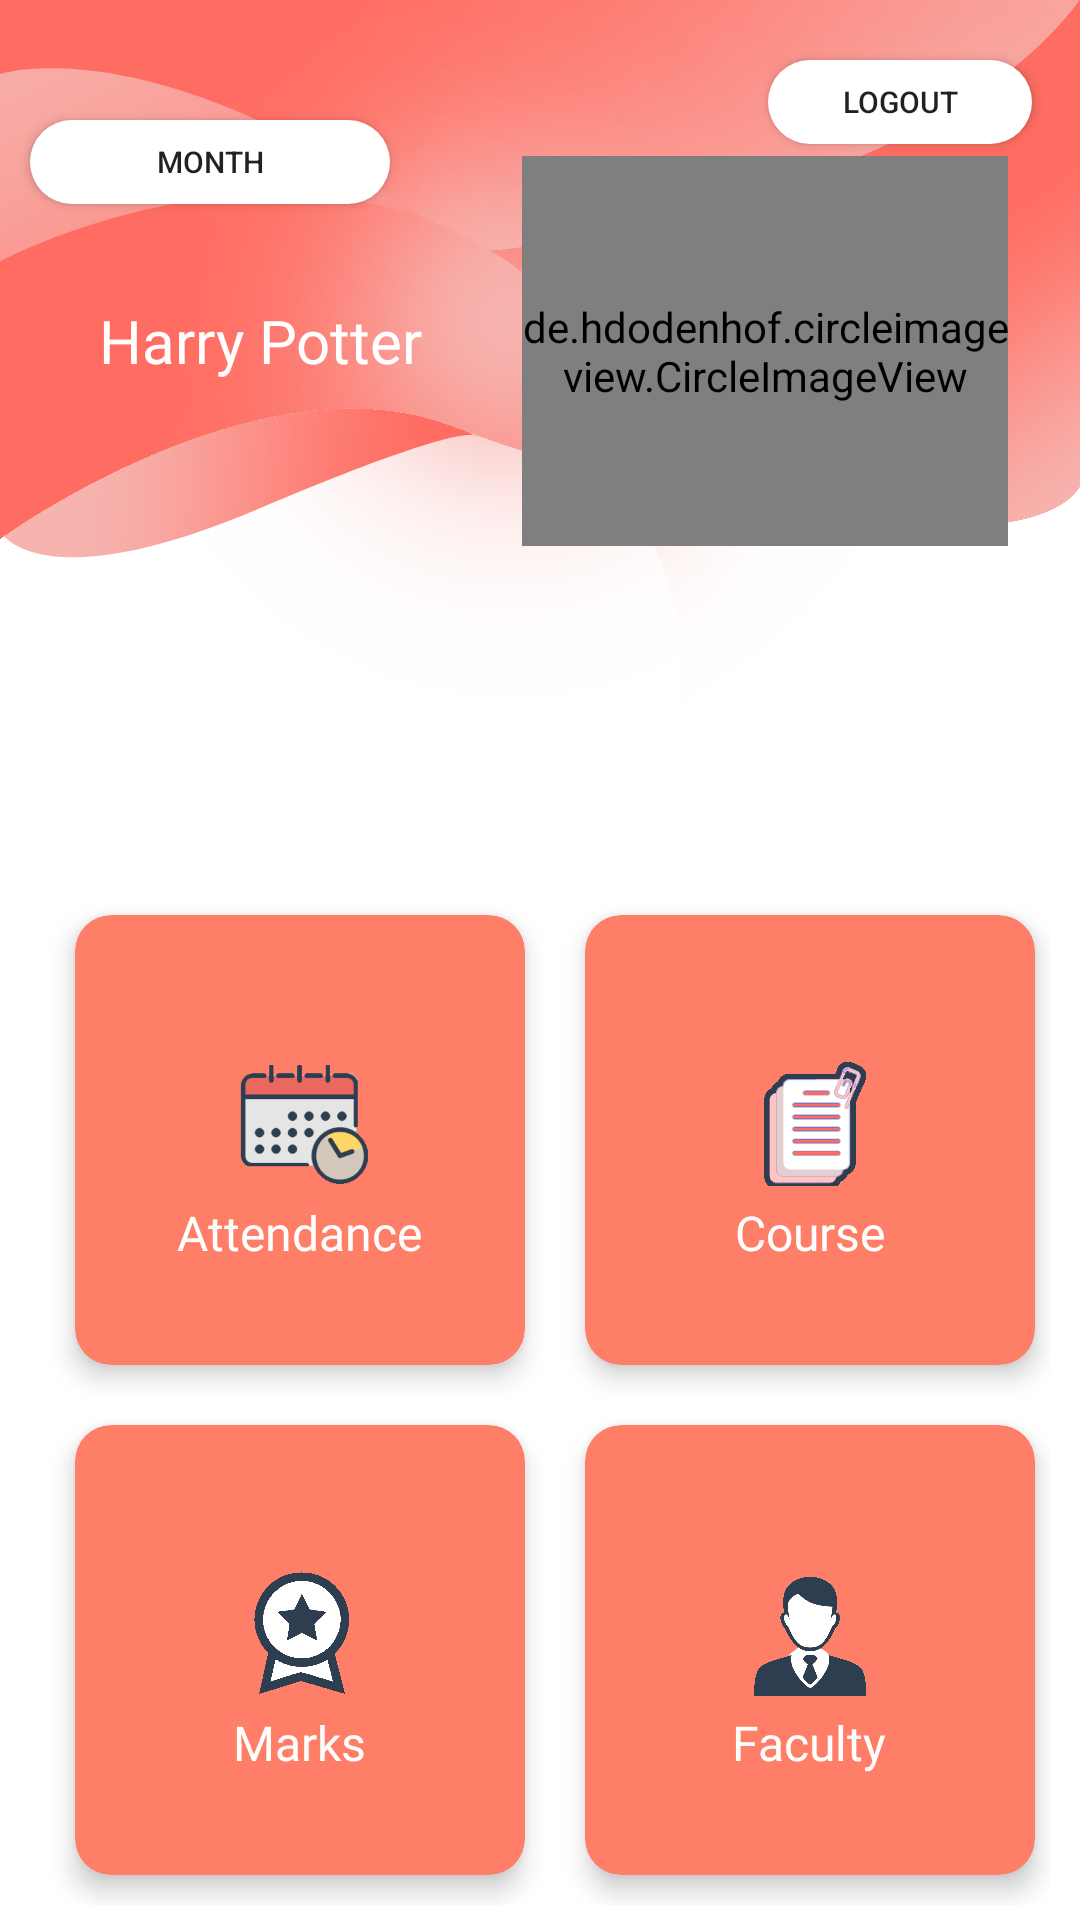

Icon click points for this 1080px x 1920px phone screenshot, format [x,y]:
sub: [815,1124]
